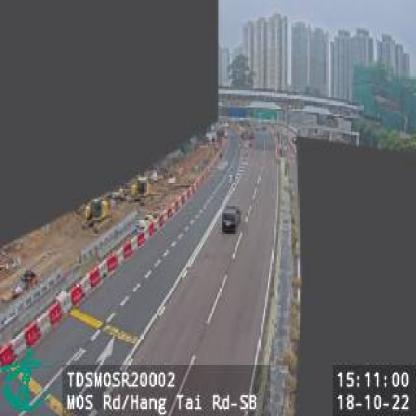Car: (222, 203, 242, 232)
